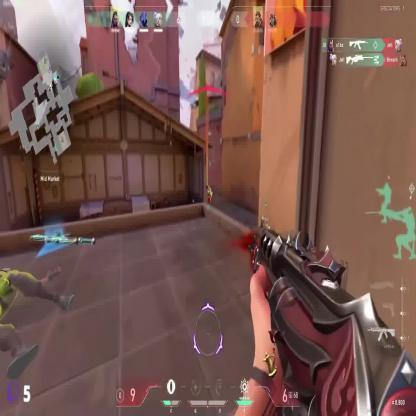enemy: (206, 184, 213, 206)
enemy_head: (208, 184, 210, 190)
